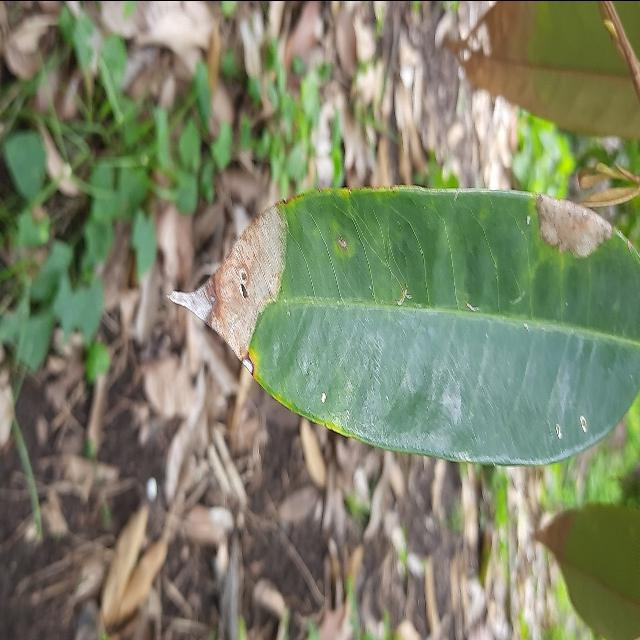Leaf Blight: (156, 178, 640, 475)
